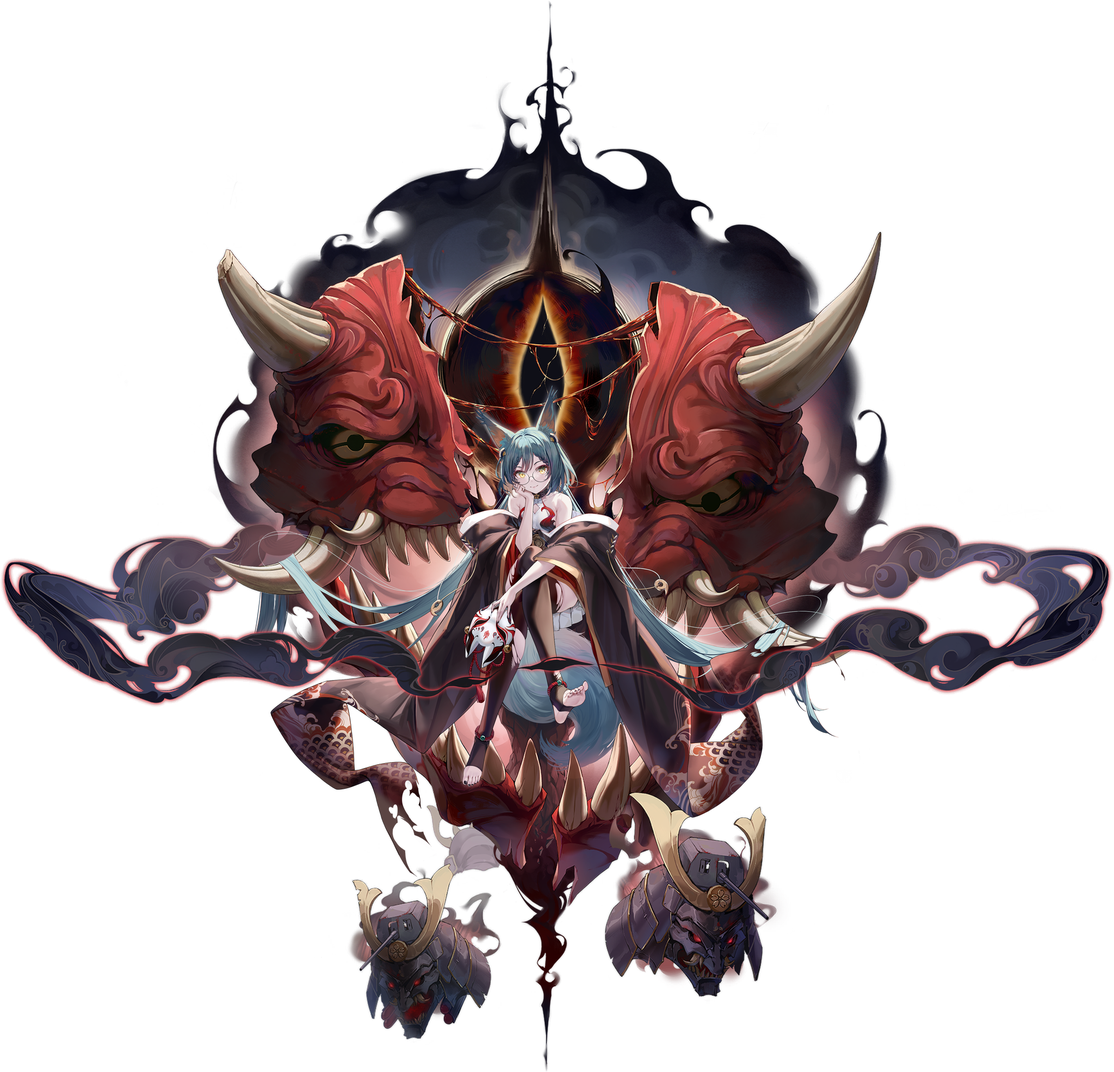person: (1, 1, 1112, 1071)
